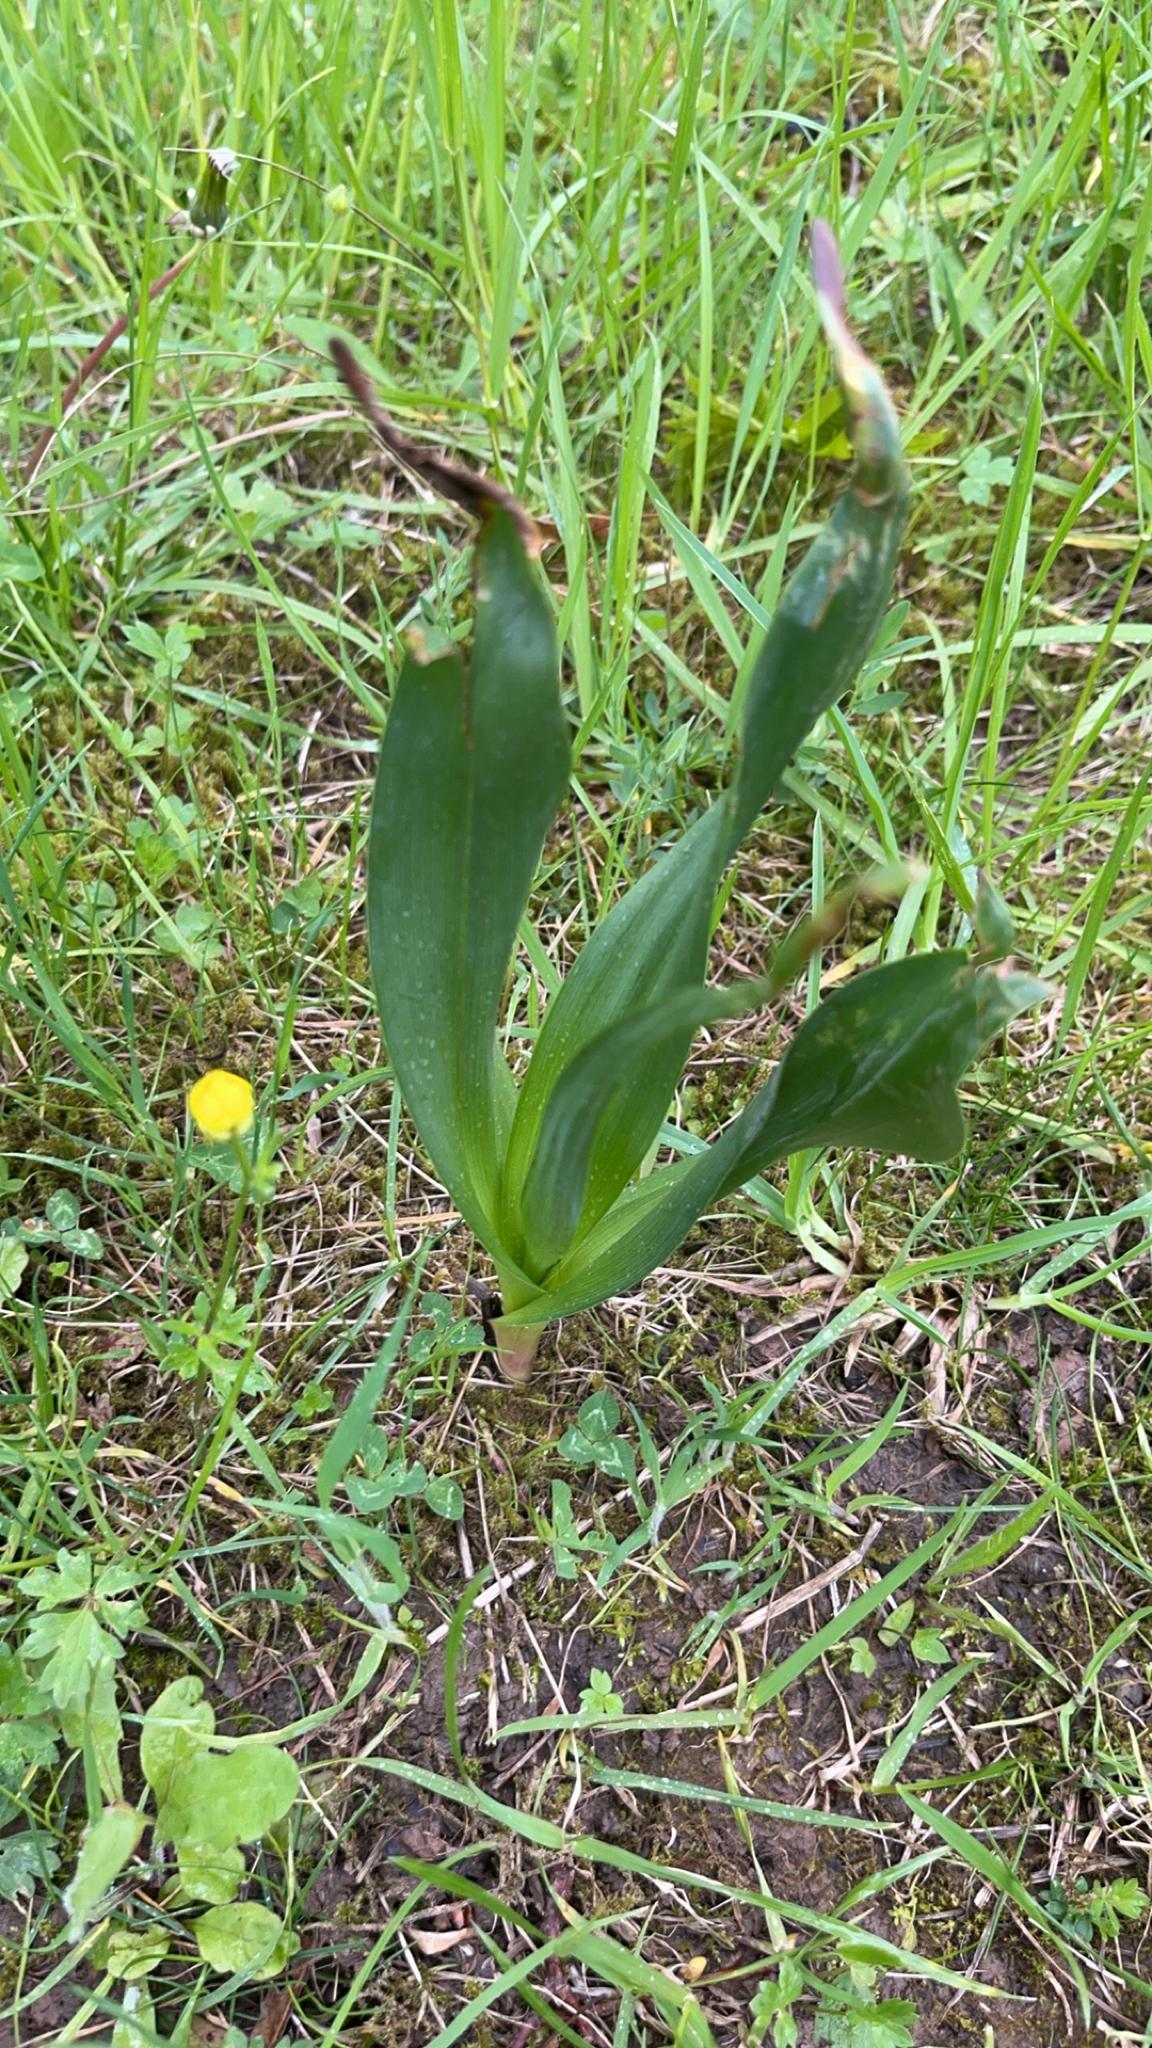Colchicum autumnale L: (295, 214, 1004, 1385)
